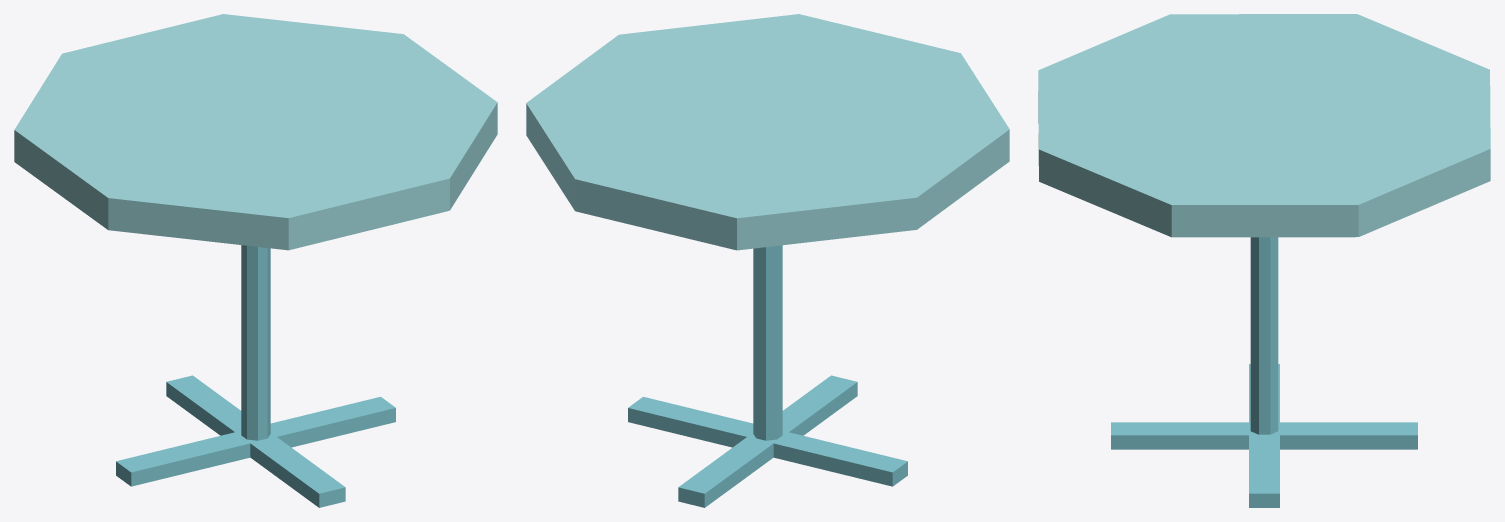
File: CafeTable.fbx
3 views of the same model, side by side, from view 1: azimuth 30°, elevation 25°; view 2: azimuth 150°, elevation 25°; view 3: azimuth 270°, elevation 25° (orthographic).
Visible parts, largest first — view 1: Table; view 2: Table; view 3: Table.
Part boxes in pixels (x1=…): Table: x1=14, y1=14, x2=497, y2=507; Table: x1=526, y1=14, x2=1009, y2=507; Table: x1=1038, y1=14, x2=1490, y2=507.
Bounding box in the file's own units: 102 × 82.81 × 102.
